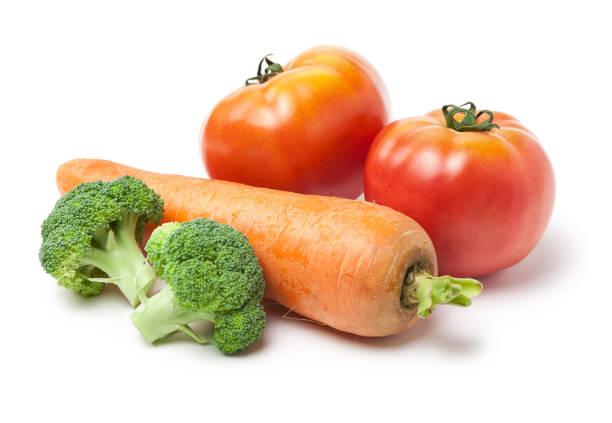Tomato: (368, 105, 548, 279), (204, 46, 381, 189)
